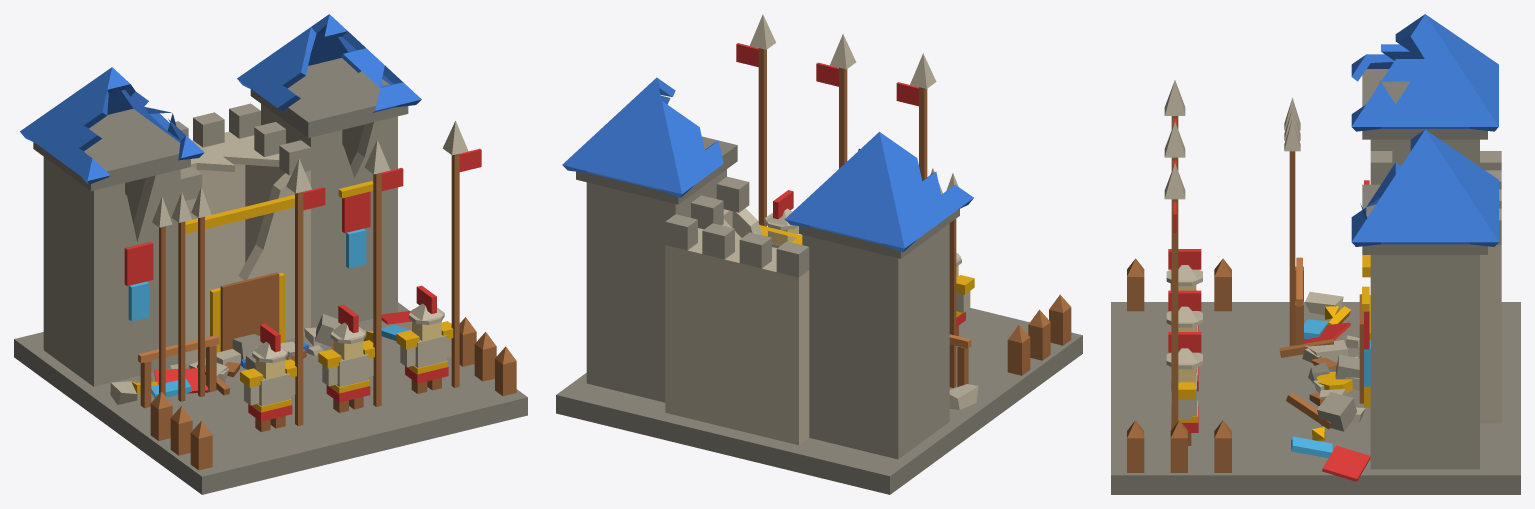
The model's file is barracks_t3_v2_dmg1.glb.
3 renders of one model, left to right at view 1: azimuth 30°, elevation 25°; view 2: azimuth 150°, elevation 25°; view 3: azimuth 270°, elevation 25°, orthographic. The views are drawn at different scales.
Parts seen in each view (by area): view 1: barracks_t3_v2_dmg1; view 2: barracks_t3_v2_dmg1; view 3: barracks_t3_v2_dmg1.
Boxes of the visible parts, x1=… form: barracks_t3_v2_dmg1: x1=14, y1=14, x2=527, y2=494; barracks_t3_v2_dmg1: x1=556, y1=14, x2=1082, y2=494; barracks_t3_v2_dmg1: x1=1111, y1=14, x2=1520, y2=494.
Bounding box in the file's own units: 0.7898 × 0.68 × 0.75.
Materials: 1 (1 with a texture image).
